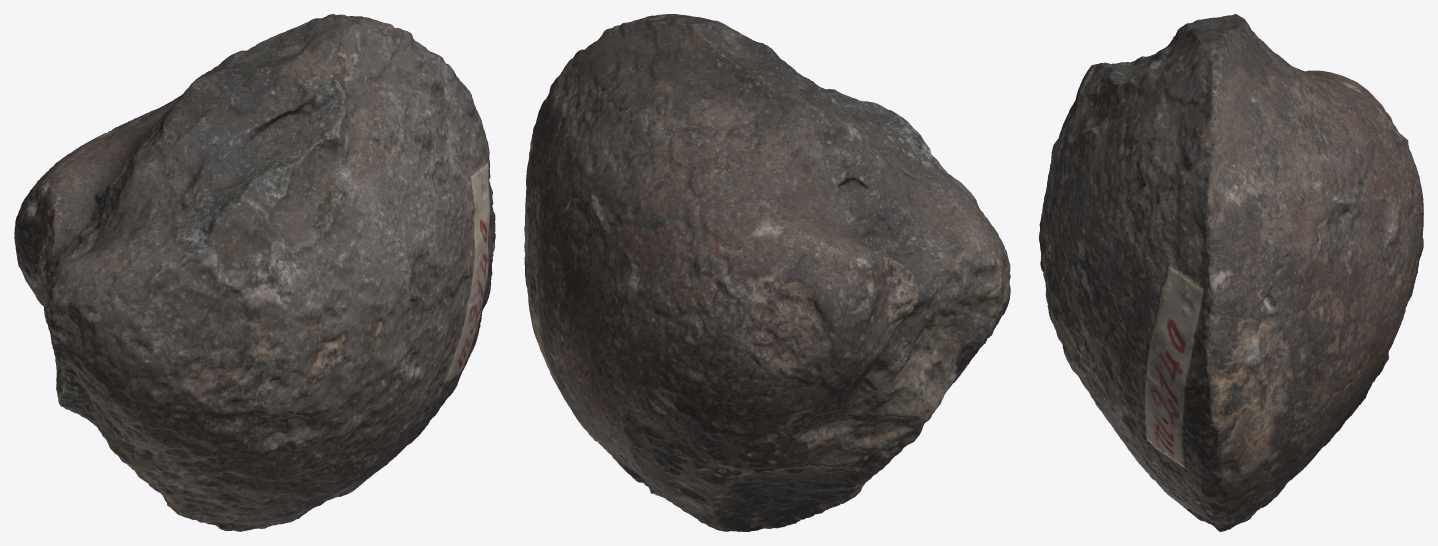
The model's file is EWS0014142.glb.
3 renders of one model, left to right at view 1: azimuth 30°, elevation 25°; view 2: azimuth 150°, elevation 25°; view 3: azimuth 270°, elevation 25°, orthographic.
Visible parts, largest first — view 1: EWS0014142.001; view 2: EWS0014142.001; view 3: EWS0014142.001.
Boxes of the visible parts, box(x1,y1,x2,y2) form: EWS0014142.001: box(14, 14, 495, 531); EWS0014142.001: box(524, 14, 1010, 531); EWS0014142.001: box(1039, 14, 1423, 531).
Bounding box in the file's own units: 0.041 × 0.0421 × 0.0291.
1 material, 1 textured.
